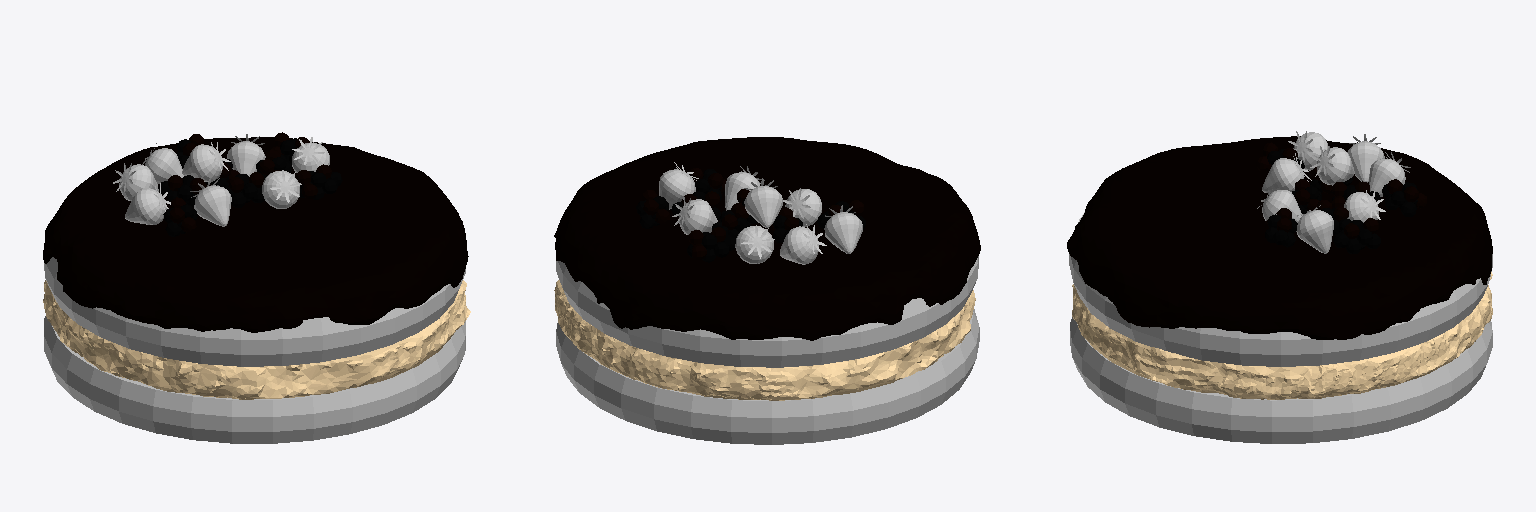
File: cake_without_plate.obj
The picture shows the model from 3 angles: view 1: azimuth 30°, elevation 25°; view 2: azimuth 150°, elevation 25°; view 3: azimuth 270°, elevation 25°; orthographic projection.
Parts seen in each view (by area): view 1: ChocoLayer_Cube.003, Layer2_Cylinder.009, Cream_Cylinder.010, Layer1_Cylinder.002, Cone.002_Cone.003, Cone.005_Cone.006, Cone.004_Cone.005, Cone.001, Cylinder.001_Cylinder.011, Cylinder.004_Cylinder.013, Cone.008_Cone.009, Cone.003_Cone.004 (+5 smaller); view 2: ChocoLayer_Cube.003, Layer2_Cylinder.009, Cream_Cylinder.010, Layer1_Cylinder.002, Cylinder.005_Cylinder.014, Cone.005_Cone.006, Cone.004_Cone.005, Cone.003_Cone.004, Cone.006_Cone.007, Cone.008_Cone.009, Cone.007_Cone.008, Cone.002_Cone.003 (+6 smaller); view 3: ChocoLayer_Cube.003, Layer2_Cylinder.009, Cream_Cylinder.010, Layer1_Cylinder.002, Cone.007_Cone.008, Cylinder.006_Cylinder.015, Cone.004_Cone.005, Cylinder.005_Cylinder.014, Cone.002_Cone.003, Cone.003_Cone.004, Cylinder.001_Cylinder.011, Cone.006_Cone.007 (+7 smaller).
Part boxes in pixels (left/top/right/bottom): ChocoLayer_Cube.003: left=43, top=137, right=468, bottom=332; Layer2_Cylinder.009: left=44, top=316, right=465, bottom=443; Cream_Cylinder.010: left=43, top=280, right=470, bottom=399; Layer1_Cylinder.002: left=44, top=257, right=465, bottom=366; Cone.002_Cone.003: left=190, top=178, right=231, bottom=226; Cone.005_Cone.006: left=125, top=183, right=170, bottom=224; Cone.004_Cone.005: left=182, top=142, right=230, bottom=181; Cone.001: left=262, top=170, right=301, bottom=208; Cylinder.001_Cylinder.011: left=296, top=164, right=342, bottom=199; Cylinder.004_Cylinder.013: left=223, top=172, right=264, bottom=207; Cone.008_Cone.009: left=227, top=134, right=265, bottom=176; Cone.003_Cone.004: left=113, top=163, right=158, bottom=200; ChocoLayer_Cube.003: left=554, top=137, right=980, bottom=340; Layer2_Cylinder.009: left=556, top=309, right=979, bottom=444; Cream_Cylinder.010: left=554, top=280, right=975, bottom=400; Layer1_Cylinder.002: left=556, top=256, right=978, bottom=367; Cylinder.005_Cylinder.014: left=687, top=227, right=735, bottom=262; Cone.005_Cone.006: left=824, top=205, right=862, bottom=253; Cone.004_Cone.005: left=744, top=178, right=782, bottom=227; Cone.003_Cone.004: left=780, top=224, right=826, bottom=264; Cone.006_Cone.007: left=735, top=225, right=774, bottom=263; Cone.008_Cone.009: left=672, top=197, right=717, bottom=234; Cone.007_Cone.008: left=659, top=162, right=698, bottom=209; Cone.002_Cone.003: left=783, top=188, right=821, bottom=226; ChocoLayer_Cube.003: left=1067, top=136, right=1492, bottom=339; Layer2_Cylinder.009: left=1070, top=317, right=1492, bottom=443; Cream_Cylinder.010: left=1072, top=272, right=1492, bottom=399; Layer1_Cylinder.002: left=1069, top=212, right=1492, bottom=366; Cone.007_Cone.008: left=1296, top=205, right=1333, bottom=253; Cylinder.006_Cylinder.015: left=1333, top=218, right=1380, bottom=253; Cone.004_Cone.005: left=1310, top=146, right=1354, bottom=185; Cylinder.005_Cylinder.014: left=1382, top=179, right=1426, bottom=216; Cone.002_Cone.003: left=1262, top=153, right=1311, bottom=192; Cone.003_Cone.004: left=1347, top=134, right=1384, bottom=182; Cylinder.001_Cylinder.011: left=1265, top=208, right=1297, bottom=247; Cone.006_Cone.007: left=1369, top=152, right=1410, bottom=196.
Bounding box in the file's own units: 2.07 × 1.09 × 2.07.